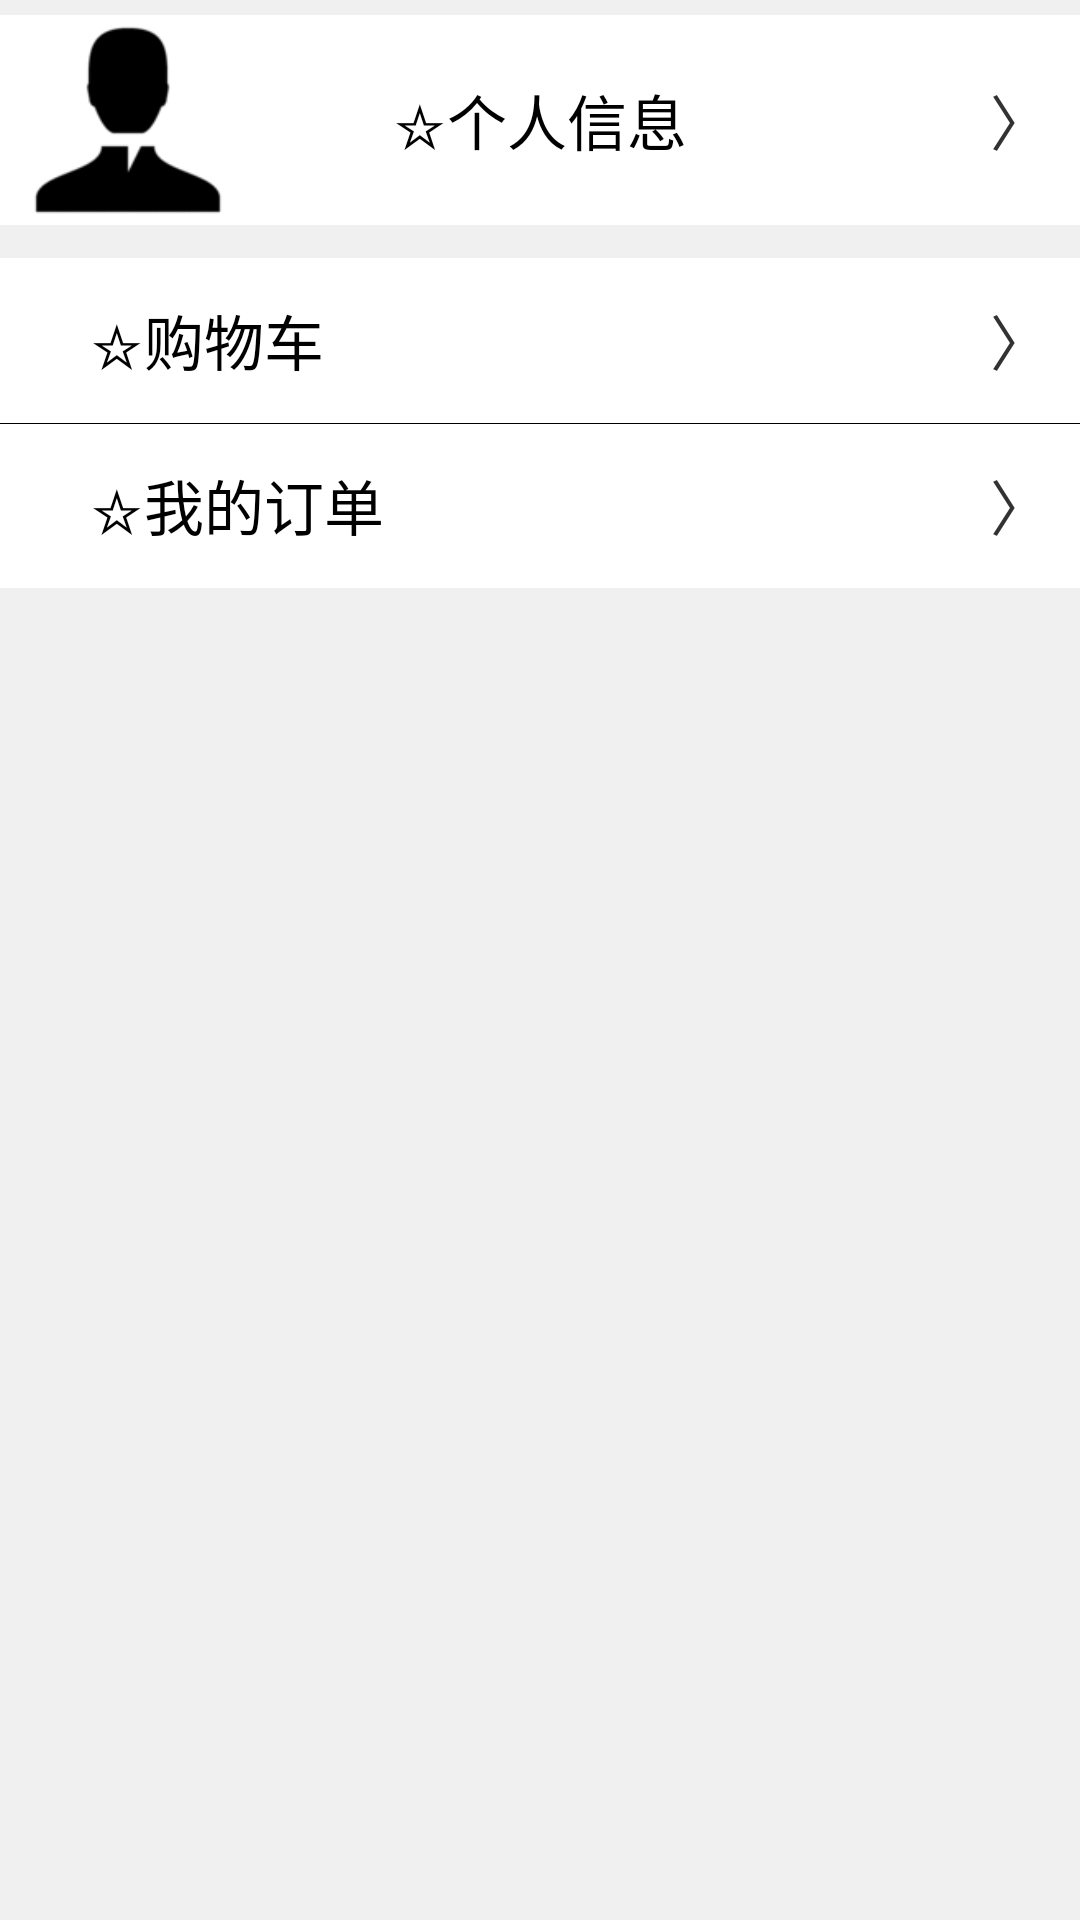

Icon bounding boxes for this 1080x1920 phone screenshot, format (x1, y1, x2, y2):
touxiang: (35, 27, 221, 213)
